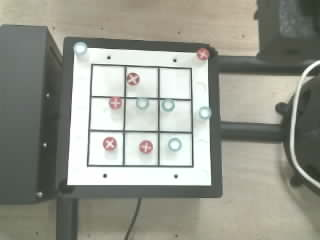blue circle: (168, 137, 182, 152), (73, 42, 87, 55), (199, 106, 211, 119), (161, 99, 174, 111), (136, 98, 148, 109)
board: (67, 42, 211, 185)
cells: (89, 132, 122, 165), (125, 132, 157, 165), (90, 98, 123, 129), (125, 99, 157, 130), (160, 133, 191, 165), (160, 68, 191, 99), (160, 100, 191, 131), (126, 67, 157, 97), (92, 66, 124, 95)
grid: (87, 64, 193, 167)
red cross: (139, 140, 152, 153), (103, 137, 116, 150), (127, 72, 139, 85), (109, 97, 121, 109), (197, 48, 209, 60)
